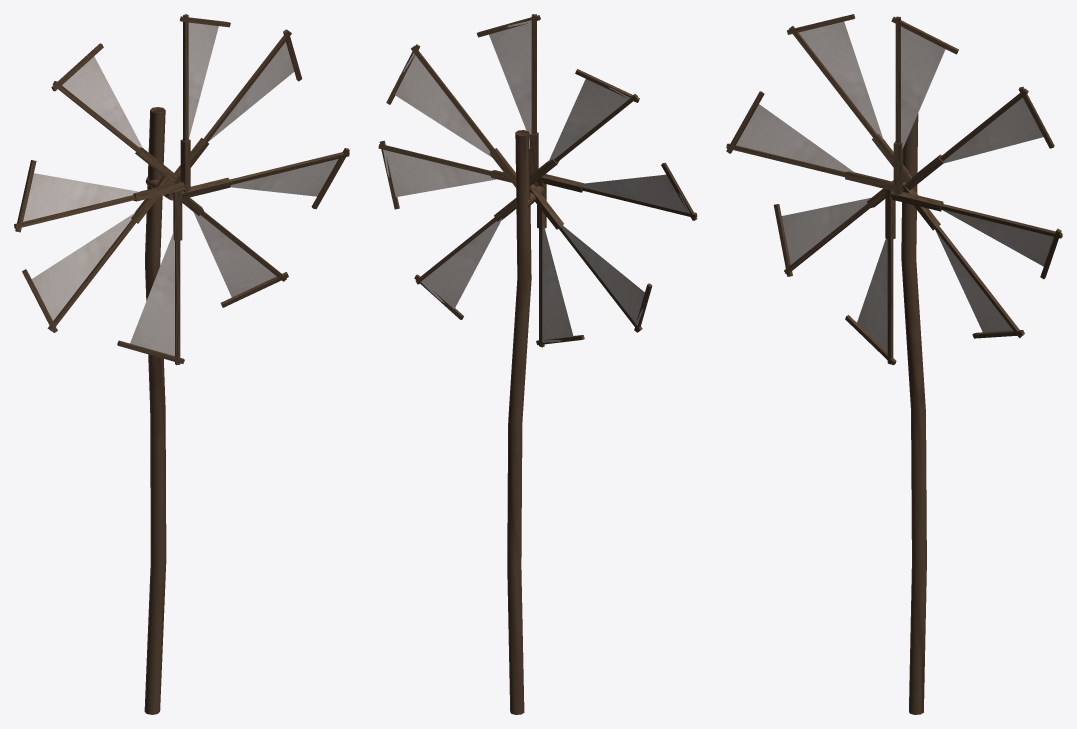
File: WindMill_small.fbx
The picture shows the model from 3 angles, left to right: view 1: azimuth 30°, elevation 25°; view 2: azimuth 150°, elevation 25°; view 3: azimuth 330°, elevation 25°; orthographic projection. The views are drawn at different scales.
Visible parts, largest first — view 1: polySurface212, polySurface213, polySurface176; view 2: polySurface213, polySurface212, polySurface176; view 3: polySurface212, polySurface213, polySurface176.
Part boxes in pixels (left/top/right/bottom): polySurface212: left=14, top=14, right=349, bottom=365; polySurface213: left=22, top=29, right=302, bottom=332; polySurface176: left=144, top=107, right=173, bottom=714; polySurface213: left=386, top=44, right=652, bottom=332; polySurface212: left=378, top=14, right=697, bottom=347; polySurface176: left=507, top=130, right=544, bottom=714; polySurface212: left=726, top=16, right=1062, bottom=364; polySurface213: left=773, top=14, right=1054, bottom=338; polySurface176: left=901, top=113, right=926, bottom=714.
Size of the model in its own units: 1.71 by 3.5 by 0.2803.
